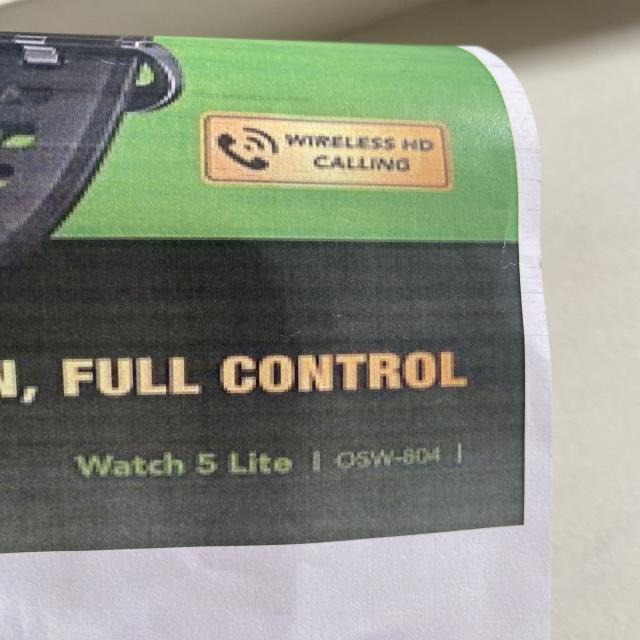Watch 5 Lite OSW-804: (65, 433, 487, 495)
